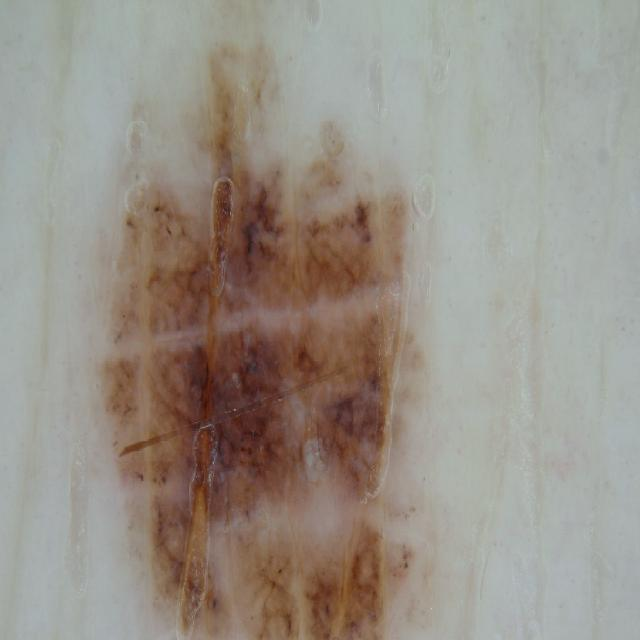Melanoma: (74, 91, 456, 640)
